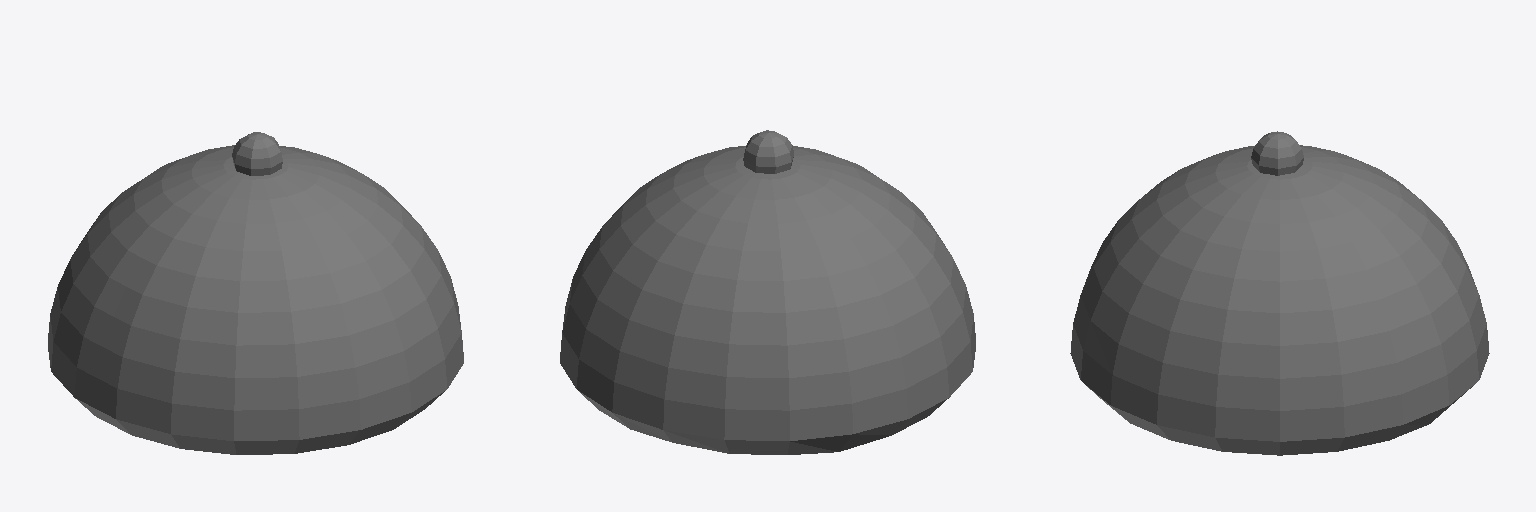
Rendered from cupcake_roof_4.obj.
The picture shows the model from 3 angles: view 1: azimuth 30°, elevation 25°; view 2: azimuth 150°, elevation 25°; view 3: azimuth 270°, elevation 25°; orthographic projection.
Parts seen in each view (by area): view 1: polySurface60_polySurface60; view 2: polySurface60_polySurface60; view 3: polySurface60_polySurface60.
Part boxes in pixels (x1,y1,x2,y2): polySurface60_polySurface60: (48,132,463,454); polySurface60_polySurface60: (560,130,975,454); polySurface60_polySurface60: (1070,131,1489,455).
Size of the model in its own units: 2 by 1.29 by 2.